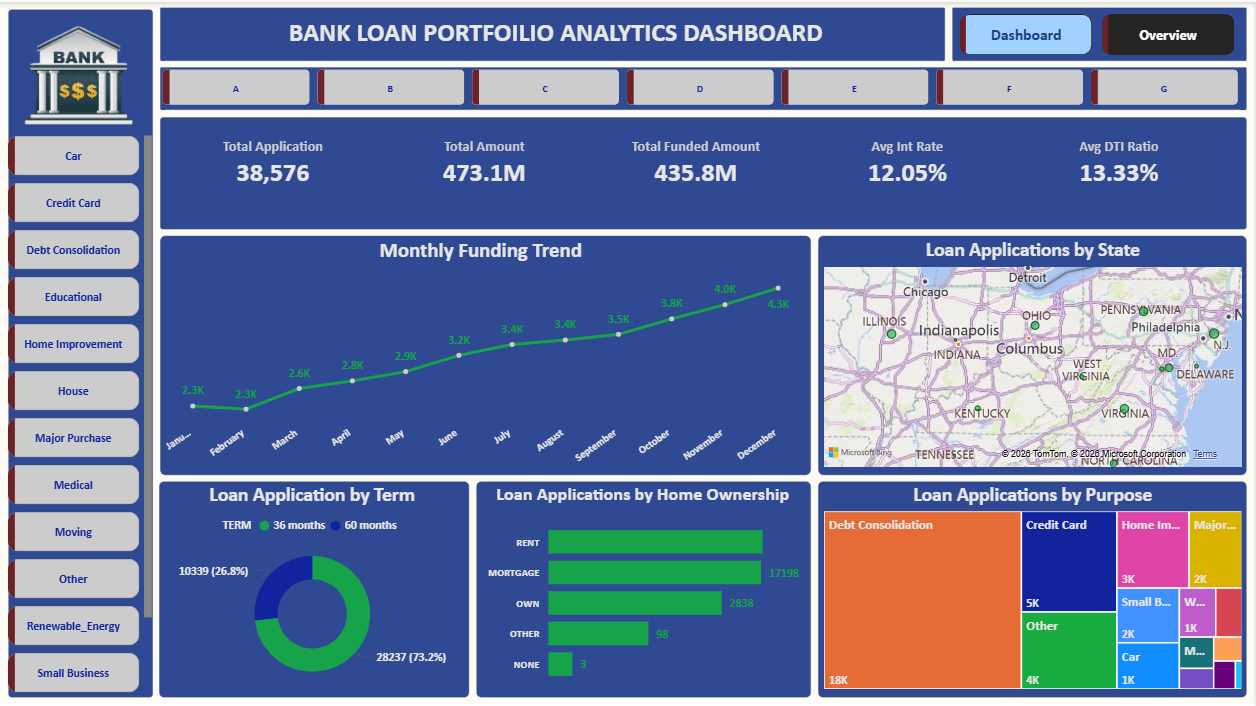

The dashboard page shown, as its layout file describes it:
{"tool":"powerbi","page":{"name":"Overview","canvas":[1280,720],"ordinal":1},"visuals":[{"type":"cardVisual","fields":{"Data":["financial_loan.Total Application","financial_loan.Toatl Amount","financial_loan.Total Funded Amount","financial_loan.Average Int Rate","financial_loan.Average DTI Ratio"]},"box":[157.8,105.7,1106,118],"z":0},{"type":"advancedSlicerVisual","fields":{"Values":["financial_loan.PURPOSE"]},"box":[3.1,136.3,157.8,569.9],"z":1000},{"type":"image","box":[3.1,12.3,154.7,124.1],"z":2000},{"type":"advancedSlicerVisual","fields":{"Values":["financial_loan.GRADE"]},"box":[160.9,68.9,1112.2,36.8],"z":3000},{"type":"pageNavigator","box":[980.4,12.3,280.3,42.9],"z":4000},{"type":"textbox","box":[176.2,0,782.8,55.1],"z":5000},{"type":"lineChart","title":"Monthly Funding Trend","fields":{"Category":["financial_loan.ISSUE_DATE.Variation.Date Hierarchy.Month"],"Y":["financial_loan.Total Loan Applicatio"]},"box":[160.9,240.5,660.3,239],"z":6000},{"type":"donutChart","title":"Loan Application by Term","fields":{"Y":["financial_loan.Total Loan Applicatio"],"Category":["financial_loan.TERM"]},"box":[160.9,490.2,315.6,216],"z":8000},{"type":"clusteredBarChart","title":"Loan Applications by Home Ownership","fields":{"Category":["financial_loan.HOME_OWNERSHIP"],"Y":["financial_loan.Total Loan Applicatio"]},"box":[491.7,490.2,329.4,216],"z":8001},{"type":"treemap","title":"Loan Applications by Purpose","fields":{"Group":["financial_loan.PURPOSE"],"Values":["financial_loan.Total Loan Applicatio"]},"box":[836.4,490.2,436.6,216],"z":8002},{"type":"map","title":"Loan Applications by State","fields":{"Category":["financial_loan.ADDRESS_STATE"],"Size":["financial_loan.Total Loan Applicatio"]},"box":[836.4,240.5,436.6,239],"z":8003}]}

Visuals, with their boxes in screenshot pixels (x1, y1, x2, y2), scaled from the page's 1280x720 canvas onto the 1256x706 screenshot:
cardVisual - financial_loan.Total Application x financial_loan.Toatl Amount: bbox(155, 104, 1240, 219)
advancedSlicerVisual - financial_loan.PURPOSE: bbox(3, 134, 158, 692)
image: bbox(3, 12, 155, 134)
advancedSlicerVisual - financial_loan.GRADE: bbox(158, 68, 1249, 104)
pageNavigator: bbox(962, 12, 1237, 54)
textbox: bbox(173, 0, 941, 54)
"Monthly Funding Trend" lineChart: bbox(158, 236, 806, 470)
"Loan Application by Term" donutChart: bbox(158, 481, 468, 692)
"Loan Applications by Home Ownership" clusteredBarChart: bbox(482, 481, 806, 692)
"Loan Applications by Purpose" treemap: bbox(821, 481, 1249, 692)
"Loan Applications by State" map: bbox(821, 236, 1249, 470)
